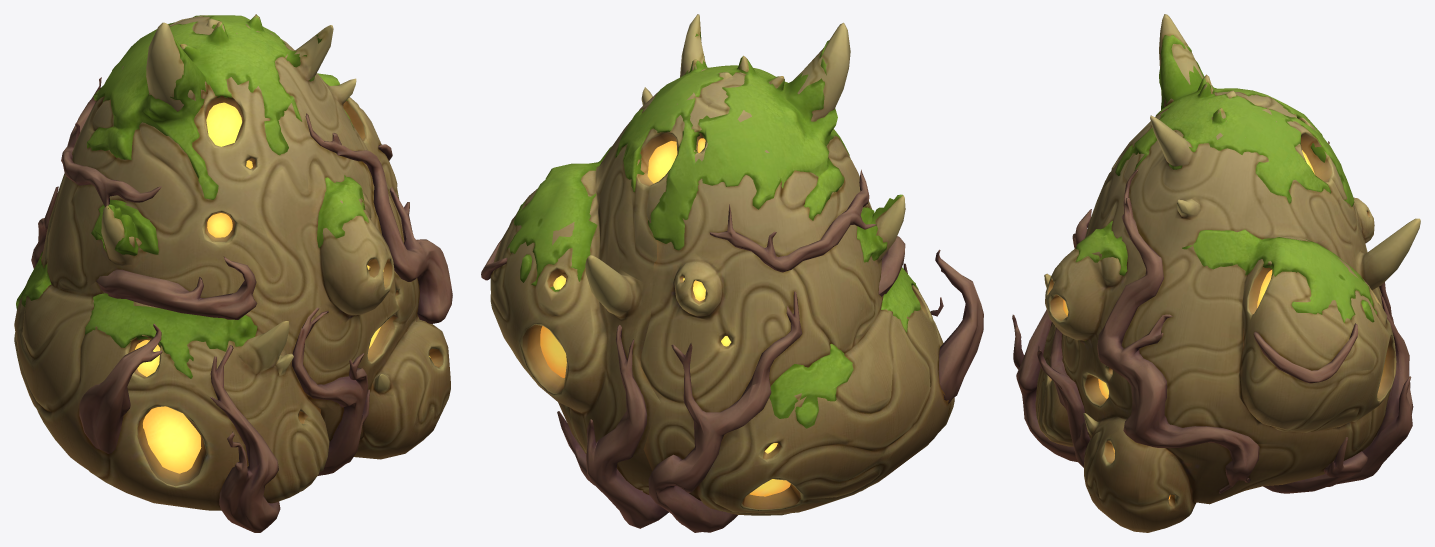
File: bog_giant_acorn.glb
The picture shows the model from 3 angles, left to right: view 1: azimuth 30°, elevation 25°; view 2: azimuth 150°, elevation 25°; view 3: azimuth 270°, elevation 25°; orthographic projection. The views are drawn at different scales.
Visible parts, largest first — view 1: SM_XBOG_HRO_GiantAcorn_01; view 2: SM_XBOG_HRO_GiantAcorn_01; view 3: SM_XBOG_HRO_GiantAcorn_01.
Part boxes in pixels (<box>): SM_XBOG_HRO_GiantAcorn_01: <box>14,14,452,532</box>; SM_XBOG_HRO_GiantAcorn_01: <box>481,14,983,532</box>; SM_XBOG_HRO_GiantAcorn_01: <box>1012,14,1420,532</box>.
Bounding box in the file's own units: 26.43 × 30.79 × 26.39.
Materials: 2 (2 with a texture image).
